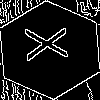X: (25, 25, 78, 62)
